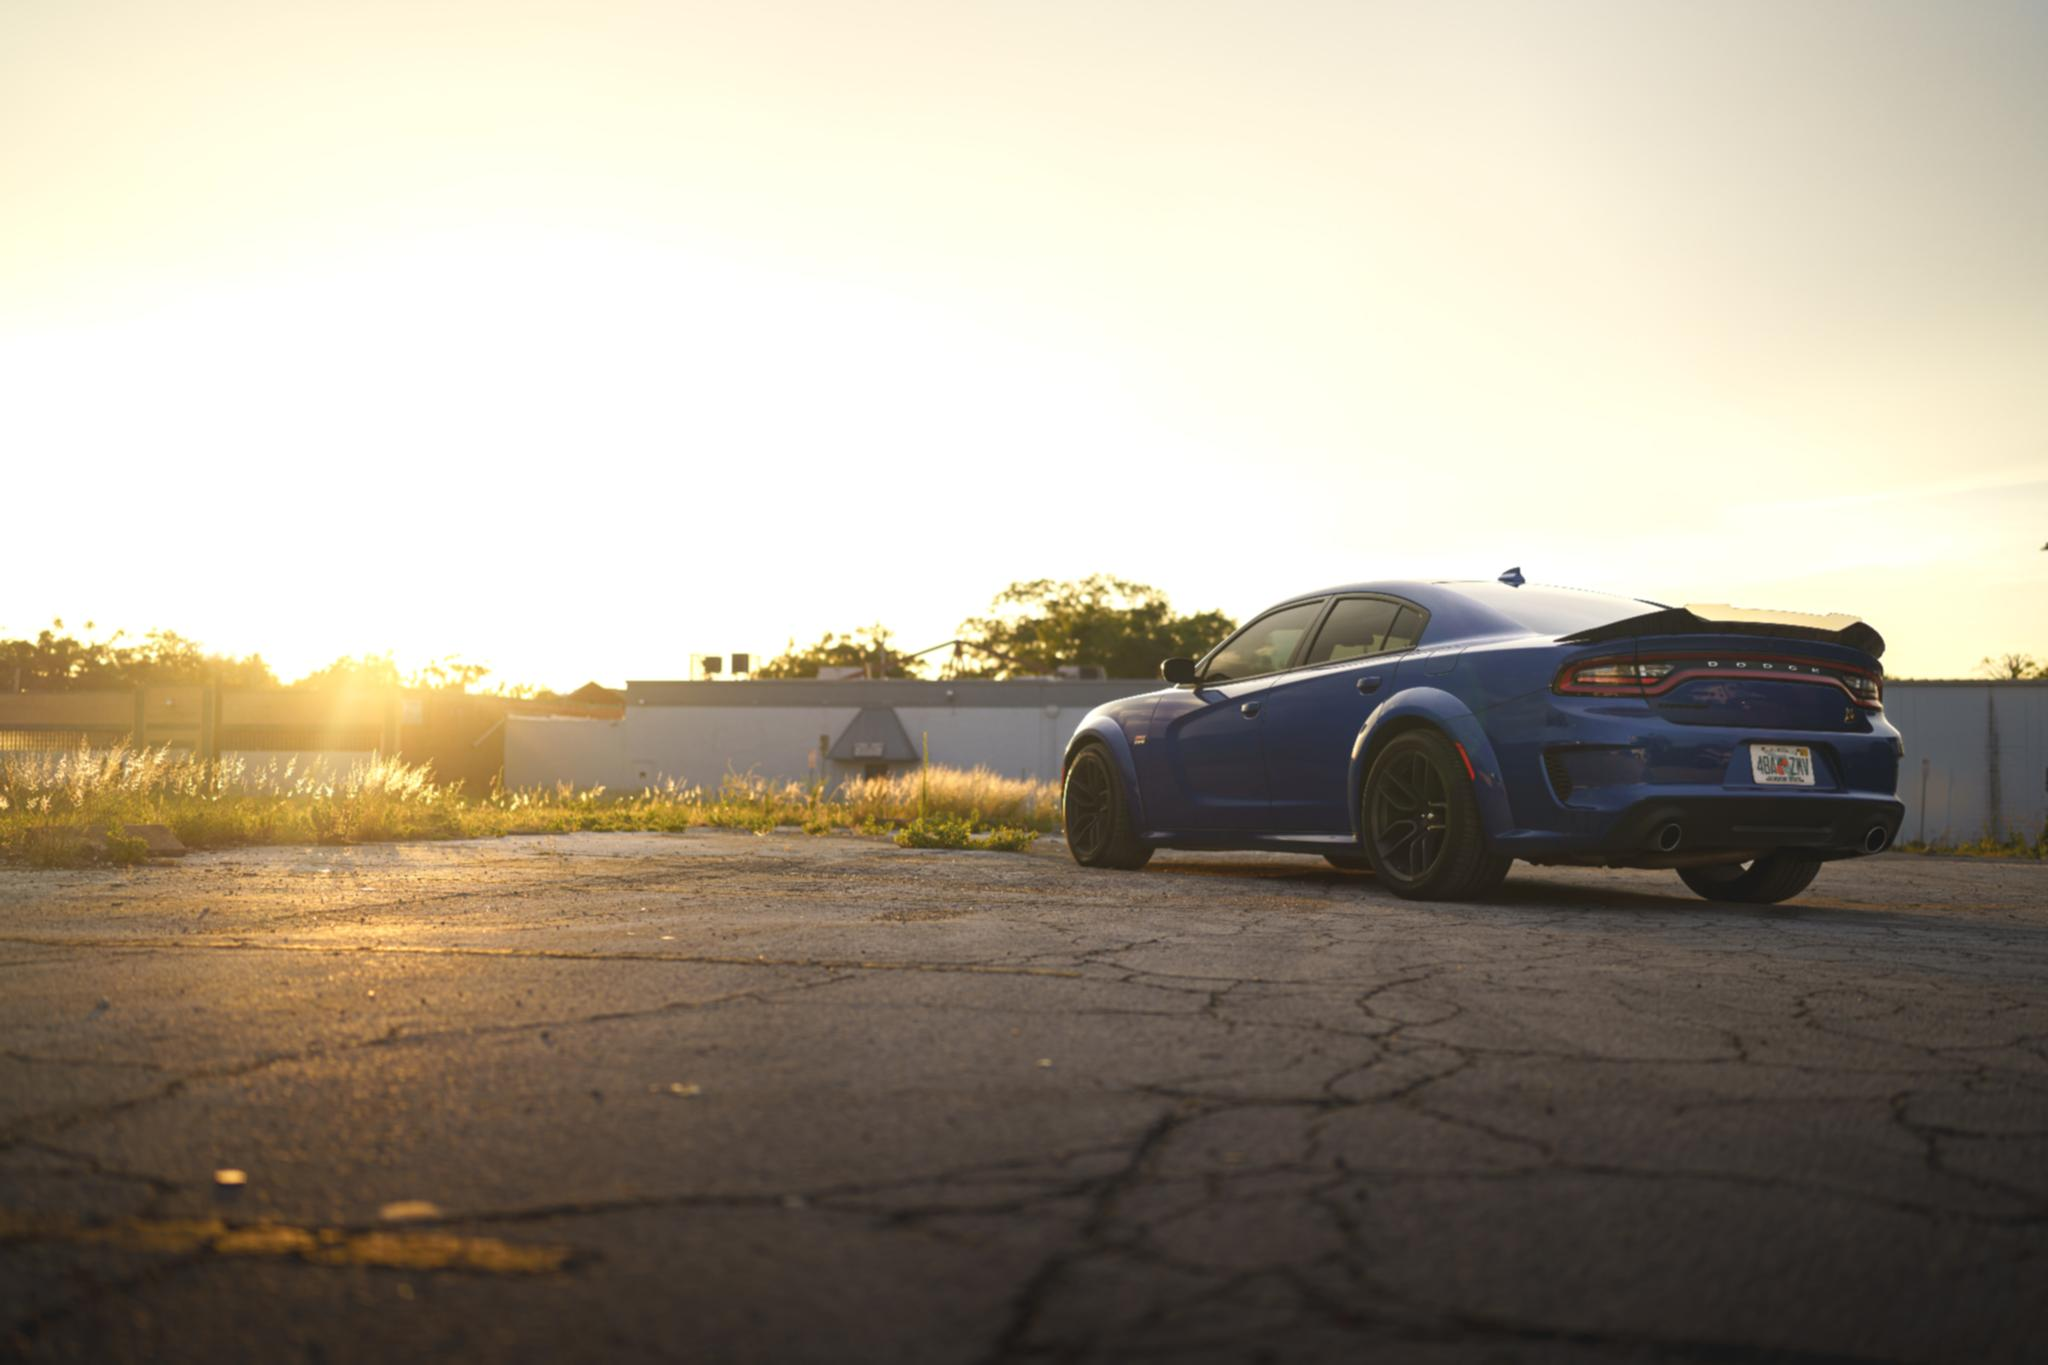dodge: (1692, 647, 1832, 684)
